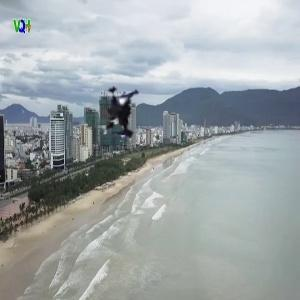drone: (87, 64, 182, 159)
